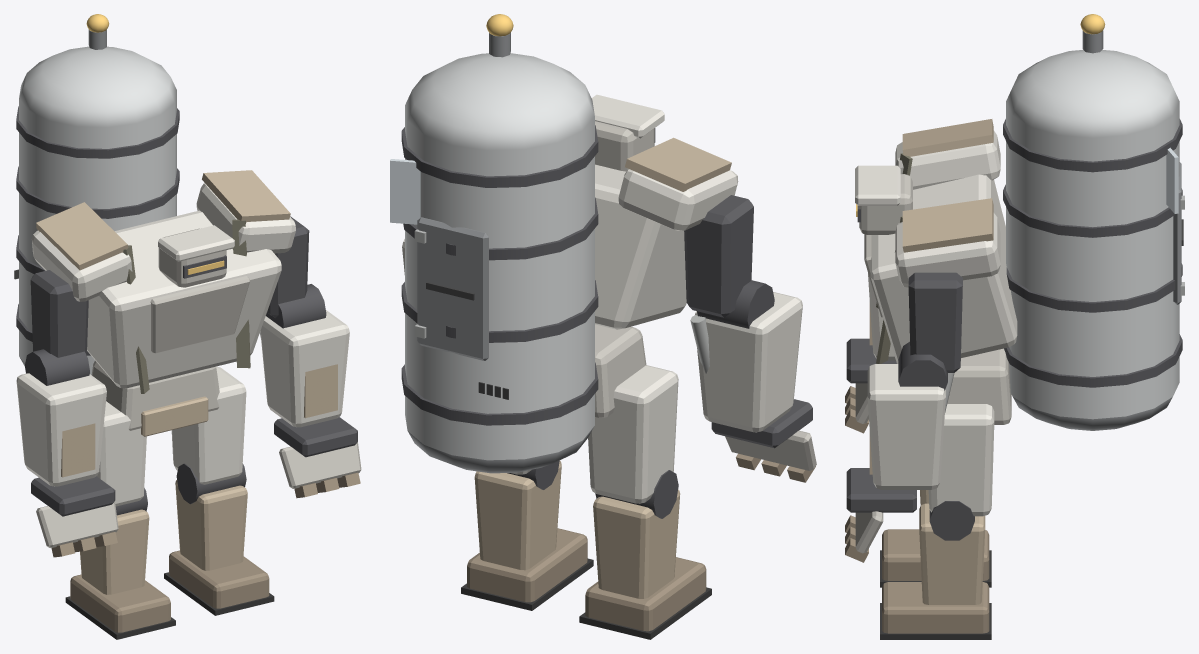
Rendered from porter.glb.
The picture shows the model from 3 angles, left to right: view 1: azimuth 30°, elevation 25°; view 2: azimuth 150°, elevation 25°; view 3: azimuth 270°, elevation 25°; orthographic projection. The views are drawn at different scales.
Parts seen in each view (by area): view 1: ring_capsule, ring_enamel, ring_capsule.001, ring_enamel.007, ring_enamel.005, ring_enamel.004, ring_enamel_dk.001, ring_dust.003, ring_graphite.010, ring_dust.005, ring_enamel_dk, ring_enamel.006 (+25 smaller); view 2: ring_capsule, ring_capsule.001, ring_enamel, ring_enamel.007, ring_enamel.006, ring_hatch.001, ring_dust.005, ring_dust.003, ring_graphite.010, ring_enamel.002, ring_dust_dk.004, ring_dust_dk (+18 smaller); view 3: ring_capsule, ring_capsule.001, ring_enamel, ring_enamel.005, ring_enamel.004, ring_dust.003, ring_graphite.006, ring_dust_dk, ring_dust.001, ring_enamel.001, ring_enamel_dk, ring_enamel.002 (+19 smaller).
Part boxes in pixels (x1,y1,x2,y2): ring_capsule: (19,90,176,374); ring_enamel: (87,210,281,388); ring_capsule.001: (19,46,176,127); ring_enamel.007: (16,373,106,486); ring_enamel.005: (260,310,349,427); ring_enamel.004: (171,366,246,484); ring_enamel_dk.001: (150,276,250,353); ring_dust.003: (175,480,247,570); ring_graphite.010: (30,270,88,357); ring_dust.005: (80,509,149,594); ring_enamel_dk: (91,360,219,430); ring_enamel.006: (97,401,146,506); ring_capsule: (405,106,594,460); ring_capsule.001: (405,53,594,150); ring_enamel: (595,164,686,329); ring_enamel.007: (695,292,802,432); ring_enamel.006: (588,365,678,503); ring_hatch.001: (417,217,488,360); ring_dust.005: (593,489,680,598); ring_dust.003: (474,461,561,570); ring_graphite.010: (684,195,753,317); ring_enamel.002: (618,169,738,230); ring_dust_dk.004: (585,557,706,631); ring_dust_dk: (467,528,587,602); ring_capsule: (1006,102,1179,419); ring_capsule.001: (1006,50,1179,137); ring_enamel: (870,174,1017,363); ring_enamel.005: (867,364,945,489); ring_enamel.004: (928,404,994,516); ring_dust.003: (919,503,985,604); ring_graphite.006: (908,272,962,372); ring_dust_dk: (882,582,989,633); ring_dust.001: (902,198,993,252); ring_enamel.001: (895,212,1000,287); ring_enamel_dk: (947,348,1011,424); ring_enamel.002: (895,130,1000,189).
Size of the model in its own units: 1.94 by 3.11 by 1.64.
